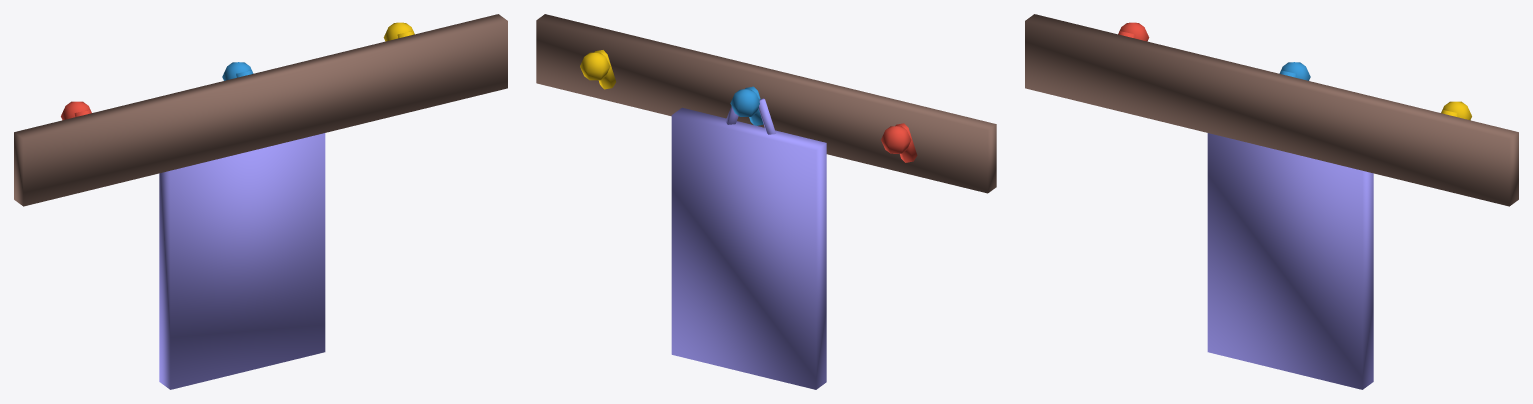
File: perchero_pared.glb
3 renders of one model, left to right at view 1: azimuth 30°, elevation 25°; view 2: azimuth 150°, elevation 25°; view 3: azimuth 330°, elevation 25°, orthographic. The views are drawn at different scales.
Visible parts, largest first — view 1: perchero_pared; view 2: perchero_pared; view 3: perchero_pared.
Boxes of the visible parts, x1=… form: perchero_pared: x1=14, y1=14, x2=507, y2=389; perchero_pared: x1=536, y1=14, x2=996, y2=389; perchero_pared: x1=1025, y1=14, x2=1518, y2=389.
Size of the model in its own units: 0.75 by 0.45 by 0.0945.
